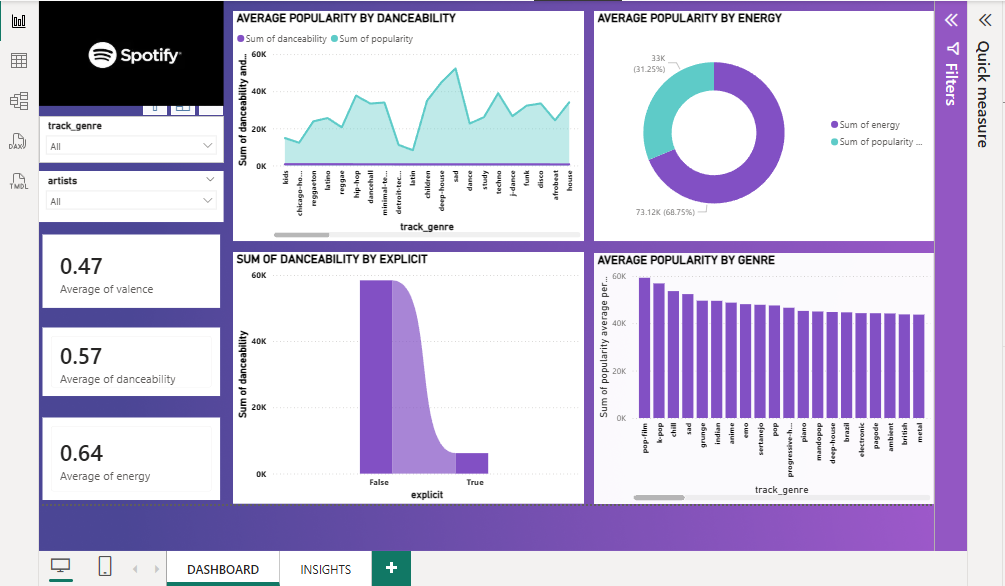

This screenshot's page, from the dashboard's own definition file:
{"tool":"powerbi","page":{"name":"DASHBOARD","canvas":[1280,720],"ordinal":0},"visuals":[{"type":"donutChart","title":"AVERAGE POPULARITY BY ENERGY","fields":{"Y":["Sum(spotify_cleaned.energy)","spotify_cleaned.Sum of popularity average per track_genre"]},"box":[794.4,14.6,486.2,329.4],"z":1000},{"type":"areaChart","title":"AVERAGE POPULARITY BY DANCEABILITY","fields":{"Category":["spotify_cleaned.track_genre"],"Y":["Sum(spotify_cleaned.danceability)","Sum(spotify_cleaned.popularity)"]},"box":[277.6,14.6,502.1,329.4],"z":2000},{"type":"ribbonChart","title":"SUM OF DANCEABILITY BY EXPLICIT","fields":{"Category":["spotify_cleaned.explicit"],"Y":["Sum(spotify_cleaned.danceability)"]},"box":[277.6,358.7,502.1,360],"z":3000},{"type":"slicer","fields":{"Values":["spotify_cleaned.track_genre"]},"box":[0,164.7,264.4,66.4],"z":4000},{"type":"cardVisual","fields":{"Data":["Avg(spotify_cleaned.valence)"]},"box":[0,329.4,264.4,115.6],"z":5000},{"type":"cardVisual","fields":{"Data":["Avg(spotify_cleaned.danceability)"]},"box":[0,462.3,264.4,108.9],"z":7000},{"type":"cardVisual","fields":{"Data":["Avg(spotify_cleaned.energy)"]},"box":[0,591.1,264.4,128.9],"z":8000},{"type":"slicer","fields":{"Values":["spotify_cleaned.artists"]},"box":[0,243.1,264.4,73.1],"z":9000},{"type":"image","box":[0,0,264.4,150.1],"z":10000},{"type":"clusteredColumnChart","title":"AVERAGE POPULARITY BY GENRE","fields":{"Category":["spotify_cleaned.track_genre"],"Y":["spotify_cleaned.Sum of popularity average per track_genre"]},"box":[793.7,360.4,486.3,359],"z":10001}]}

Visuals, with their boxes on the page's 1280x720 design canvas (x1, y1, x2, y2). These are canvas units, not pixel positions in the 1005x586 screenshot, which may show the page scaled, cropped or inside an application window:
"AVERAGE POPULARITY BY ENERGY" donutChart: left=794, top=15, right=1281, bottom=344
"AVERAGE POPULARITY BY DANCEABILITY" areaChart: left=278, top=15, right=780, bottom=344
"SUM OF DANCEABILITY BY EXPLICIT" ribbonChart: left=278, top=359, right=780, bottom=719
slicer - spotify_cleaned.track_genre: left=0, top=165, right=264, bottom=231
cardVisual - Avg(spotify_cleaned.valence): left=0, top=329, right=264, bottom=445
cardVisual - Avg(spotify_cleaned.danceability): left=0, top=462, right=264, bottom=571
cardVisual - Avg(spotify_cleaned.energy): left=0, top=591, right=264, bottom=720
slicer - spotify_cleaned.artists: left=0, top=243, right=264, bottom=316
image: left=0, top=0, right=264, bottom=150
"AVERAGE POPULARITY BY GENRE" clusteredColumnChart: left=794, top=360, right=1280, bottom=719
